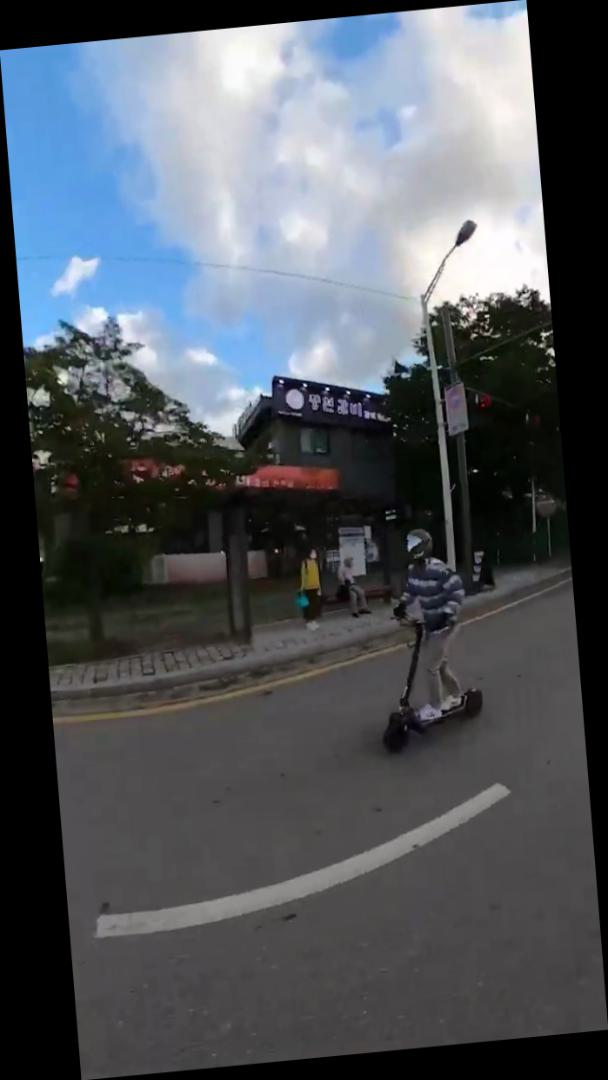helmet: (365, 522, 490, 754)
